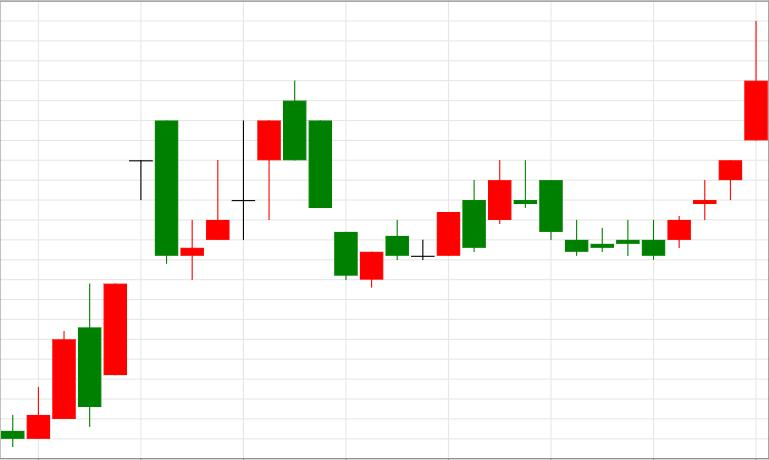hanging_man_fall: (180, 121, 281, 281)
